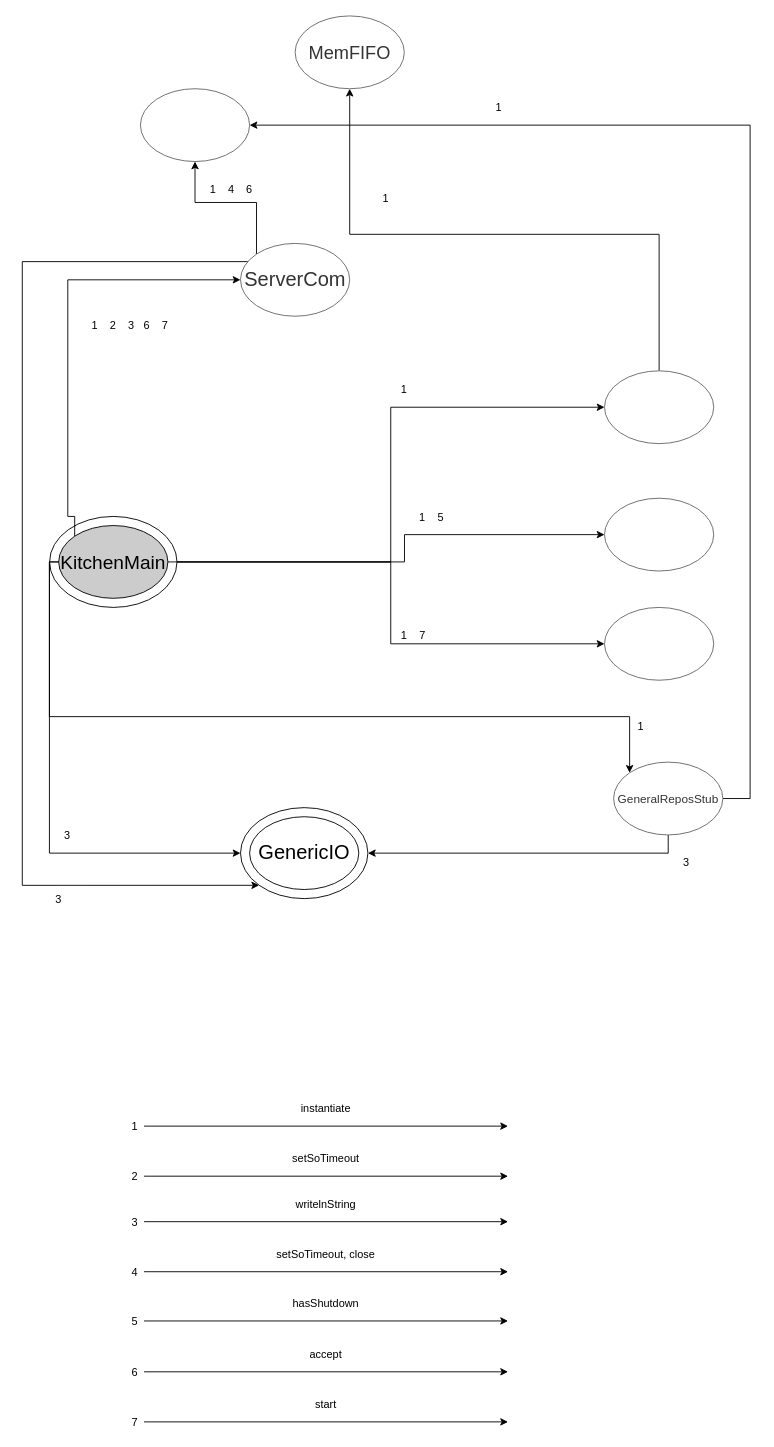
Some shapes in this 774 by 1447 pixel diagram are drawn without their labels. Here are the shapes that lost their labels. From the top down, the centre of each, then its label:
At [195,125]: "ServerSocket".
At [659,407]: "Kitchen".
At [659,534]: "KitchenInterface".
At [659,643]: "ServiceProviderAgent".
